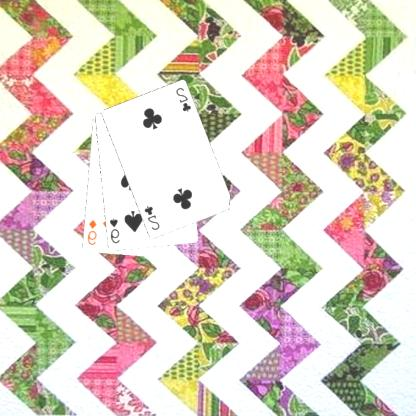2C: (143, 203, 163, 232), (174, 85, 194, 113)
6D: (86, 217, 99, 247)
6S: (108, 215, 122, 245)
